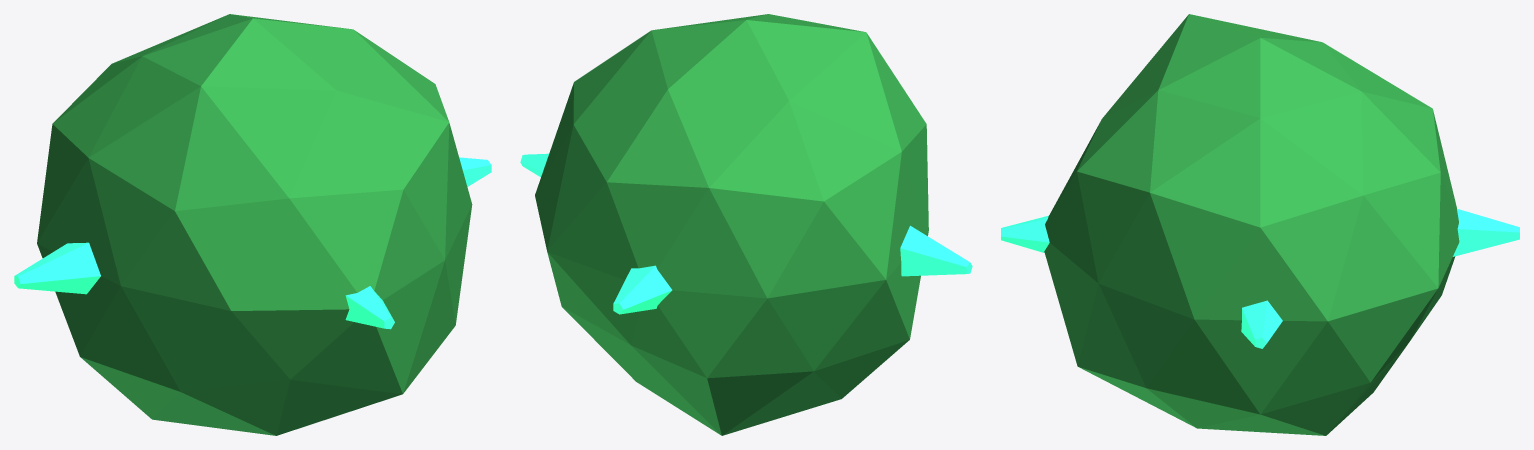
Rendered from EM_Proj_SporeGlob.glb.
3 renders of one model, left to right at view 1: azimuth 30°, elevation 25°; view 2: azimuth 150°, elevation 25°; view 3: azimuth 270°, elevation 25°, orthographic. The views are drawn at different scales.
Parts seen in each view (by area): view 1: Proj_SporeGlob__Core__SlimeGreen, Proj_SporeGlob__Core__JadeGlow; view 2: Proj_SporeGlob__Core__SlimeGreen, Proj_SporeGlob__Core__JadeGlow; view 3: Proj_SporeGlob__Core__SlimeGreen, Proj_SporeGlob__Core__JadeGlow.
Part boxes in pixels (box(x1,y1,x2,y2)): Proj_SporeGlob__Core__SlimeGreen: box(37, 14, 472, 435); Proj_SporeGlob__Core__JadeGlow: box(14, 157, 491, 329); Proj_SporeGlob__Core__SlimeGreen: box(535, 14, 928, 435); Proj_SporeGlob__Core__JadeGlow: box(520, 153, 972, 314); Proj_SporeGlob__Core__SlimeGreen: box(1044, 14, 1459, 435); Proj_SporeGlob__Core__JadeGlow: box(1001, 208, 1519, 348).
Size of the model in its own units: 2.16 by 1.8 by 2.16.
